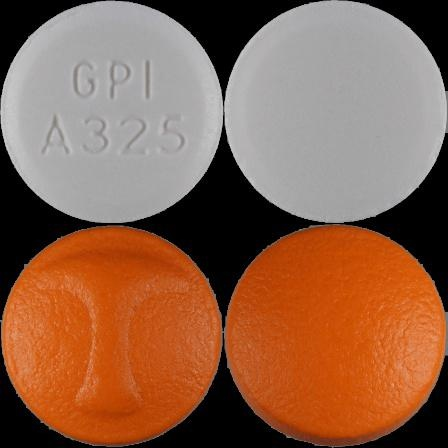0904-1982: (0, 0, 224, 224)
